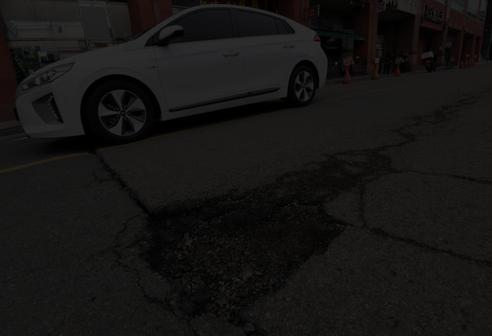pothole: (88, 157, 375, 334)
